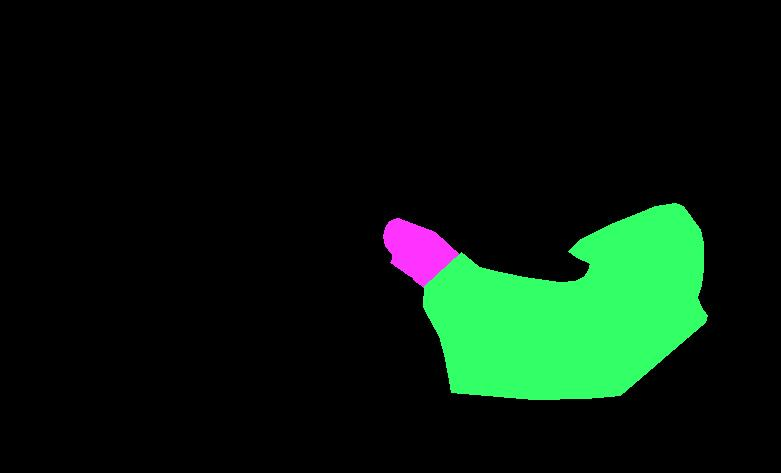Broken part: (423, 203, 707, 399)
Dent: (423, 264, 497, 389), (383, 218, 461, 288)
Paint chip: (463, 386, 472, 394), (404, 263, 420, 266), (441, 332, 447, 339), (445, 284, 452, 288), (423, 257, 427, 261), (432, 304, 435, 307)
